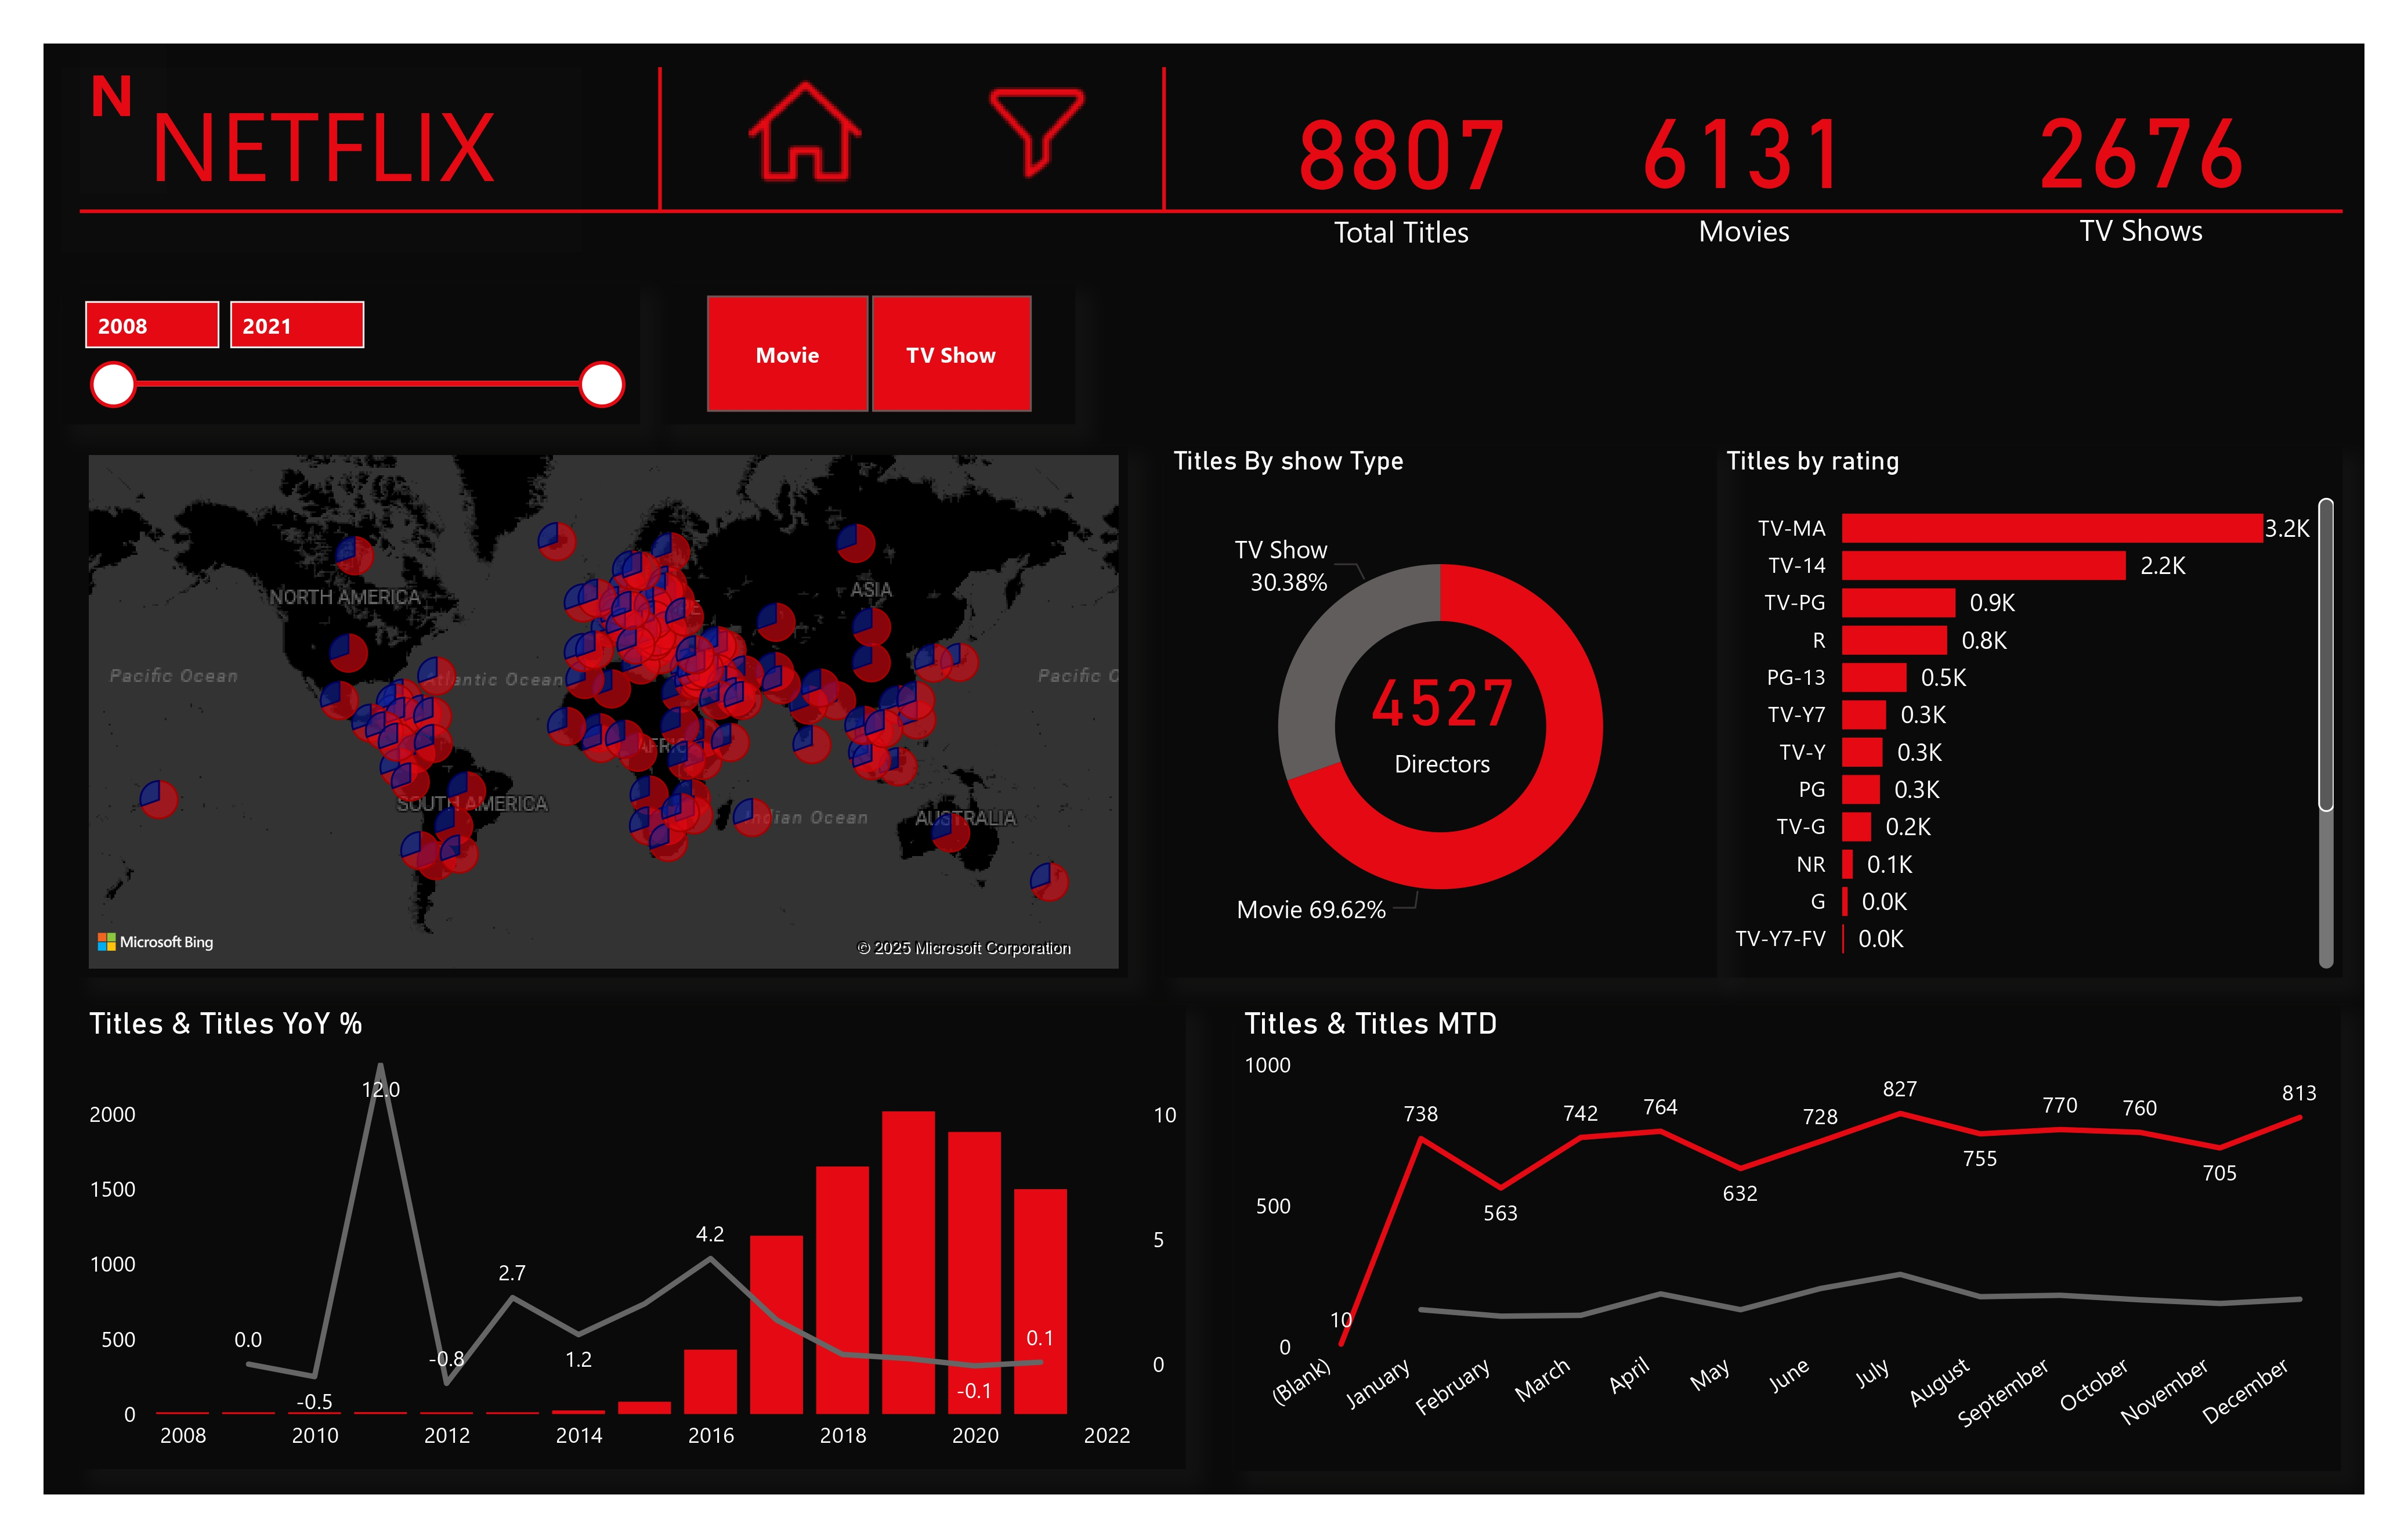

Layout of this report page (visuals, bound fields, positions):
{"tool":"powerbi","page":{"name":"Netflix Dashboard","canvas":[1280,800],"ordinal":0},"visuals":[{"type":"textbox","box":[10,13.3,286.7,101.7],"z":0},{"type":"slicer","fields":{"Values":["Date Table.Year"]},"box":[9.8,131.8,318.8,78.1],"z":1000},{"type":"slicer","fields":{"Values":["netflix_titles.type"]},"box":[339.9,131.8,229.3,78.1],"z":2000},{"type":"card","fields":{"Values":["netflix_titles.Total Titles"]},"box":[639.8,12.7,218.7,104.8],"z":3000},{"type":"card","fields":{"Values":["netflix_titles.Movies"]},"box":[827.7,12.7,220.5,103],"z":4000},{"type":"card","fields":{"Values":["netflix_titles.TV Shows"]},"box":[1047.5,13,219.6,102.5],"z":5000},{"type":"donutChart","title":"Titles By show Type","fields":{"Category":["netflix_titles.type"],"Y":["netflix_titles.Total Titles"]},"box":[618.3,221.7,305,293.3],"z":6000},{"type":"card","fields":{"Values":["netflix_titles.Directors"]},"box":[694,321.7,155.4,94],"z":7000},{"type":"clusteredBarChart","title":" Titles by rating","fields":{"Category":["netflix_titles.rating"],"Y":["netflix_titles.Total Titles"]},"box":[923.3,221.7,345,293.3],"z":8000},{"type":"lineStackedColumnComboChart","title":"Titles & Titles YoY % ","fields":{"Category":["Date Table.Year"],"Y":["netflix_titles.Total Titles"],"Y2":["netflix_titles.Titles YoY %"]},"box":[19.9,529.5,610,256.6],"z":9000},{"type":"lineChart","title":"Titles & Titles MTD","fields":{"Y":["netflix_titles.Total Titles","netflix_titles.Titles MTD"],"Category":["Date Table.MonthName"]},"box":[656.7,530,610,256.7],"z":10000},{"type":"textbox","box":[19.5,0,48.8,83],"z":11000},{"type":"actionButton","box":[370,13.3,100,70],"z":12000},{"type":"actionButton","box":[498.3,13.3,100,70],"z":13000},{"type":"shape","box":[20,35,1248.3,115],"z":14000},{"type":"shape","box":[190,13.3,300,78.3],"z":15000},{"type":"shape","box":[468.3,13.3,300,78.3],"z":16000},{"type":"map","title":" Titles by Country and type","fields":{"Category":["CountryMap.Country"],"Series":["netflix_titles.type"],"Size":["netflix_titles.Total Titles"]},"box":[10.8,222.3,607.2,292.8],"z":17000}]}

Visuals, with their boxes on the page's 1280x800 design canvas (x1, y1, x2, y2). These are canvas units, not pixel positions in the 2408x1538 screenshot, which may show the page scaled, cropped or inside an application window:
textbox: locate(10, 13, 297, 115)
slicer - Date Table.Year: locate(10, 132, 329, 210)
slicer - netflix_titles.type: locate(340, 132, 569, 210)
card - netflix_titles.Total Titles: locate(640, 13, 858, 118)
card - netflix_titles.Movies: locate(828, 13, 1048, 116)
card - netflix_titles.TV Shows: locate(1048, 13, 1267, 116)
"Titles By show Type" donutChart: locate(618, 222, 923, 515)
card - netflix_titles.Directors: locate(694, 322, 849, 416)
" Titles by rating" clusteredBarChart: locate(923, 222, 1268, 515)
"Titles & Titles YoY % " lineStackedColumnComboChart: locate(20, 530, 630, 786)
"Titles & Titles MTD" lineChart: locate(657, 530, 1267, 787)
textbox: locate(20, 0, 68, 83)
actionButton: locate(370, 13, 470, 83)
actionButton: locate(498, 13, 598, 83)
shape: locate(20, 35, 1268, 150)
shape: locate(190, 13, 490, 92)
shape: locate(468, 13, 768, 92)
" Titles by Country and type" map: locate(11, 222, 618, 515)
